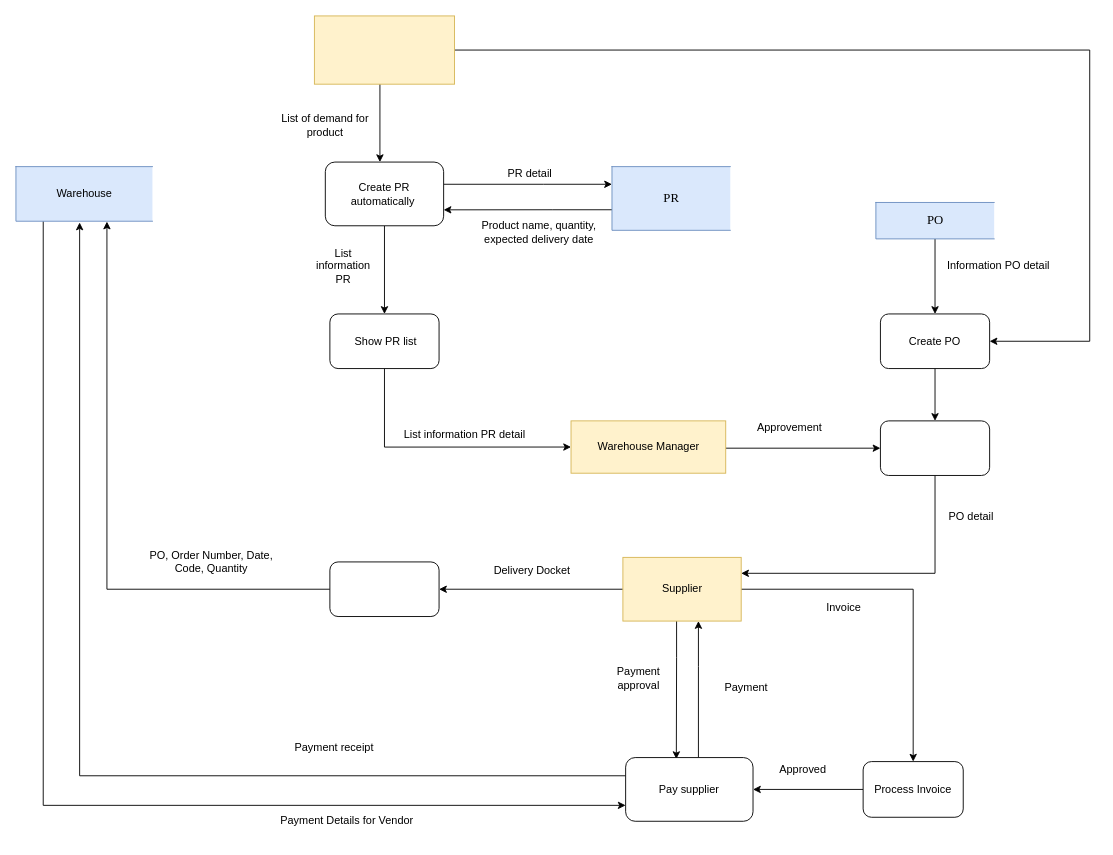
This 1113x855 diagram has some shape labels left out. The shapes that lost their labels are listed below. From the top down, each one's centre as x and y in pixels, then its label:
the point at 384,49: Application
the point at 935,447: Confirm PO
the point at 384,589: Receive Delivery
